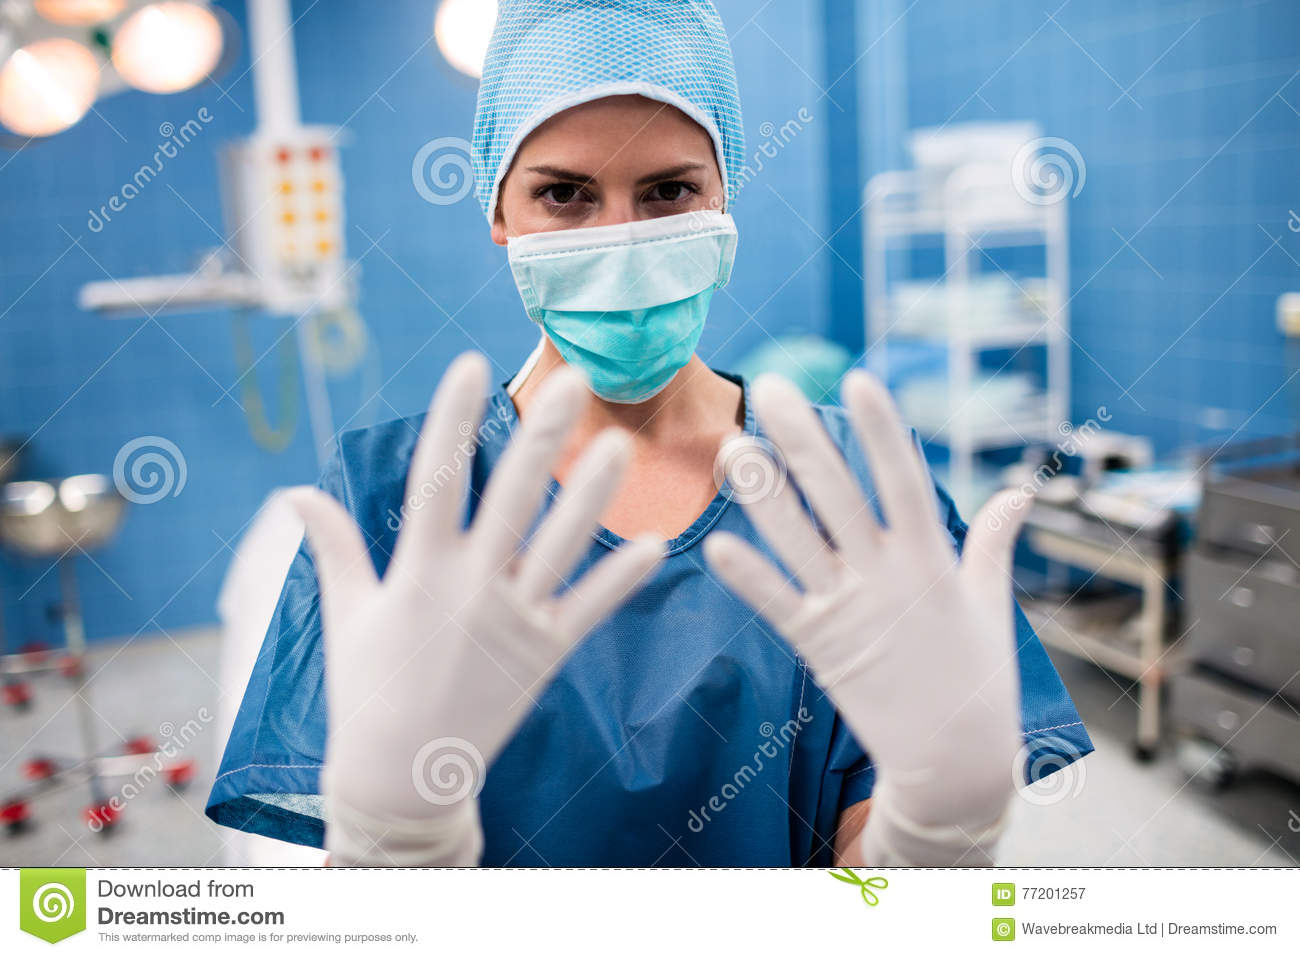mask: (503, 224, 773, 405)
